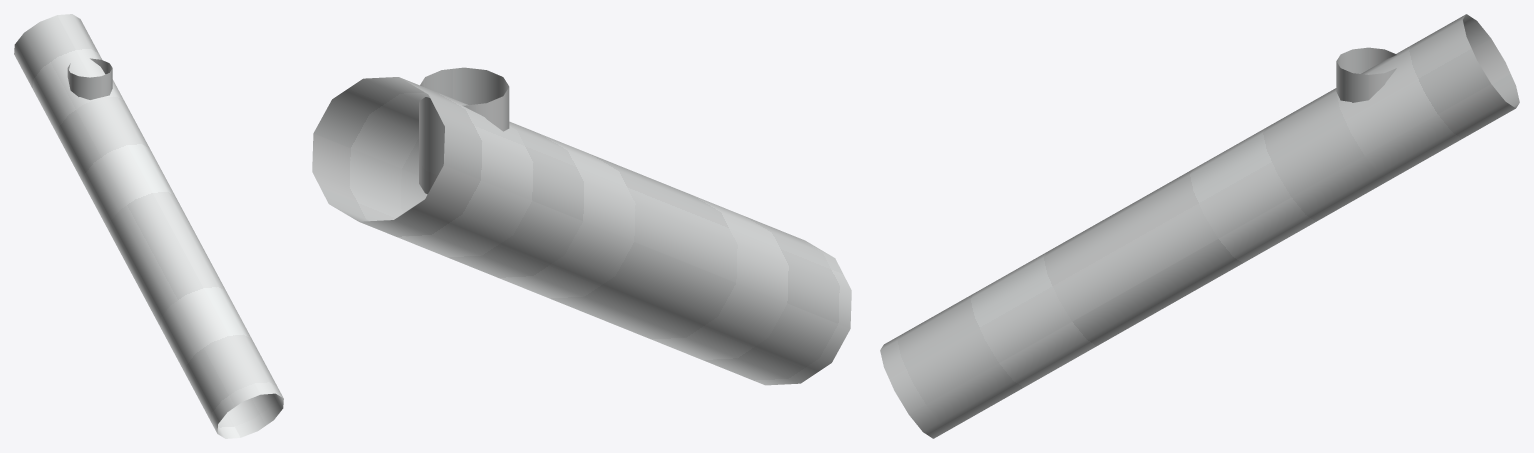
Rendered from luminairearm_truss12ft_c3.obj.
3 views of the same model, side by side, from view 1: azimuth 30°, elevation 25°; view 2: azimuth 150°, elevation 25°; view 3: azimuth 270°, elevation 25° (orthographic). The views are drawn at different scales.
Visible parts, largest first — view 1: luminairearm_truss12ft_c3; view 2: luminairearm_truss12ft_c3; view 3: luminairearm_truss12ft_c3.
Part boxes in pixels (x1,y1,x2,y2): luminairearm_truss12ft_c3: (14, 14, 283, 438); luminairearm_truss12ft_c3: (312, 67, 851, 385); luminairearm_truss12ft_c3: (880, 14, 1519, 438).
Size of the model in its own units: 0.1562 by 0.6609 by 0.9273.
